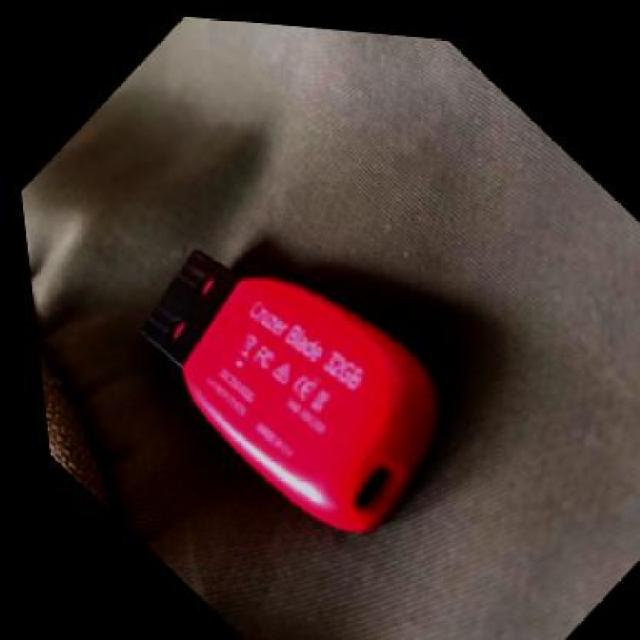Flashdisk: (78, 158, 507, 578)
